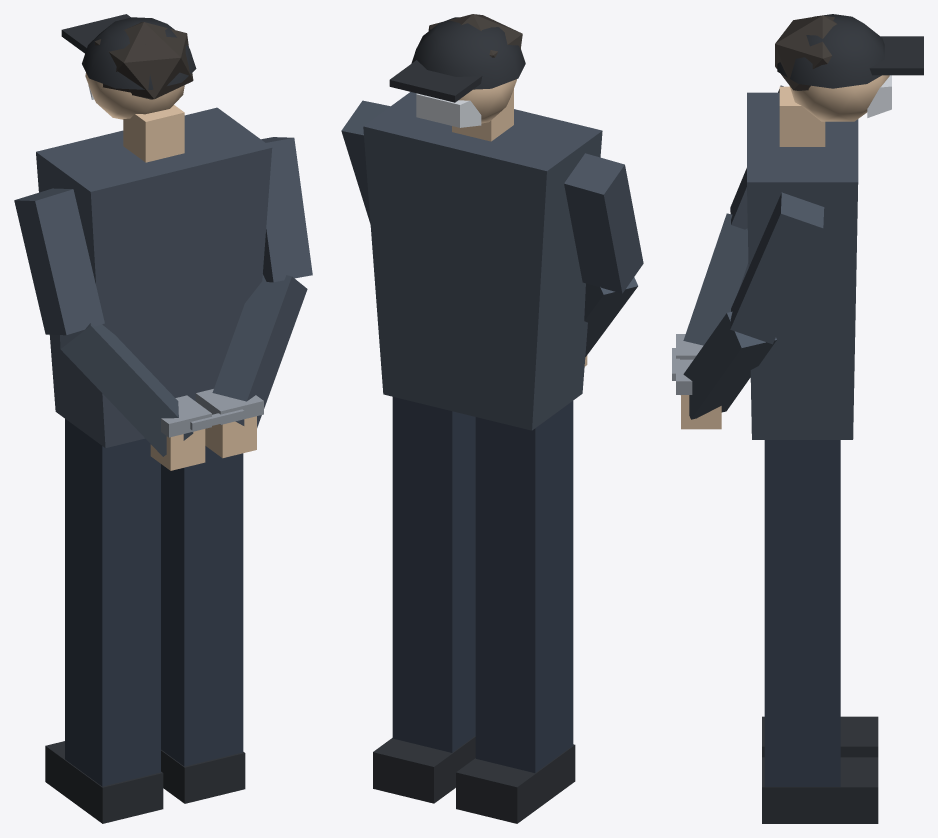
File: culprit_cuffed.glb
The picture shows the model from 3 angles, left to right: view 1: azimuth 30°, elevation 25°; view 2: azimuth 150°, elevation 25°; view 3: azimuth 270°, elevation 25°; orthographic projection.
Parts seen in each view (by area): view 1: Body, LegL, LegR; view 2: Body, LegL, LegR; view 3: Body, LegR, LegL.
Part boxes in pixels (left/top/right/bottom): Body: left=14, top=14, right=312, bottom=470; LegL: left=45, top=419, right=163, bottom=823; LegR: left=161, top=446, right=245, bottom=803; Body: left=341, top=14, right=643, bottom=430; LegL: left=456, top=401, right=575, bottom=823; LegR: left=373, top=397, right=475, bottom=803; Body: left=672, top=14, right=923, bottom=439; LegR: left=762, top=440, right=878, bottom=823; LegL: left=762, top=716, right=878, bottom=757.
Bounding box in the file's own units: 0.5999 × 1.69 × 0.498.
